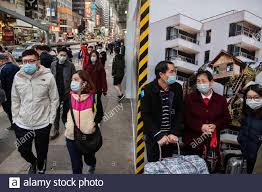mask: (156, 59, 178, 86), (242, 82, 261, 108), (21, 51, 39, 74), (195, 69, 212, 93), (70, 72, 85, 95), (90, 49, 98, 64), (57, 48, 66, 61), (85, 43, 93, 53), (96, 44, 102, 53)
